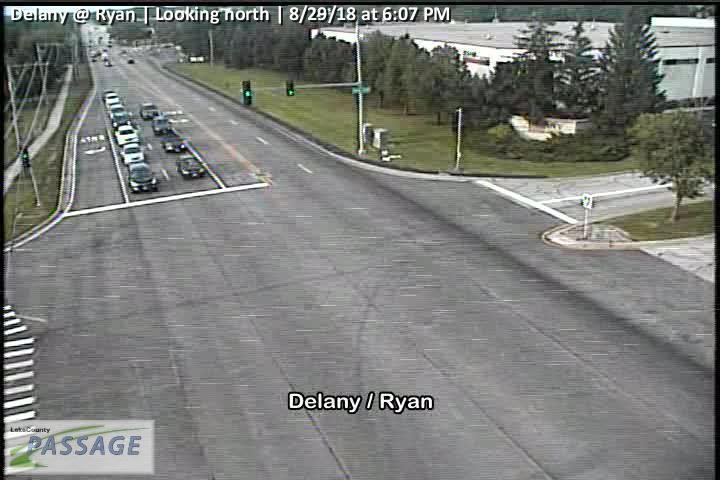Sedan: (128, 163, 160, 191), (176, 155, 207, 178), (160, 134, 188, 153), (121, 143, 145, 165), (115, 124, 139, 145), (152, 116, 172, 134), (112, 111, 132, 128), (103, 92, 121, 110), (140, 103, 159, 119), (109, 104, 127, 119)
